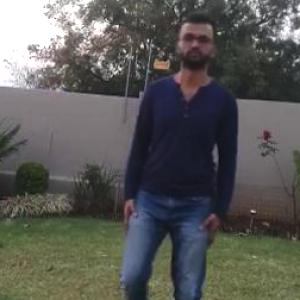follow: (126, 20, 232, 299)
